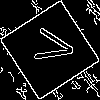V: (25, 25, 77, 67)
